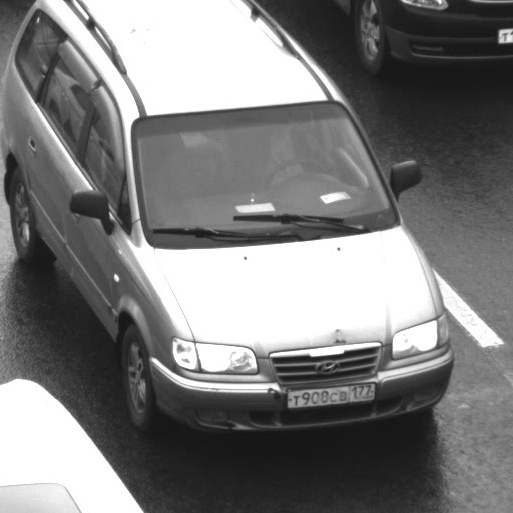plate: (278, 371, 382, 414)
